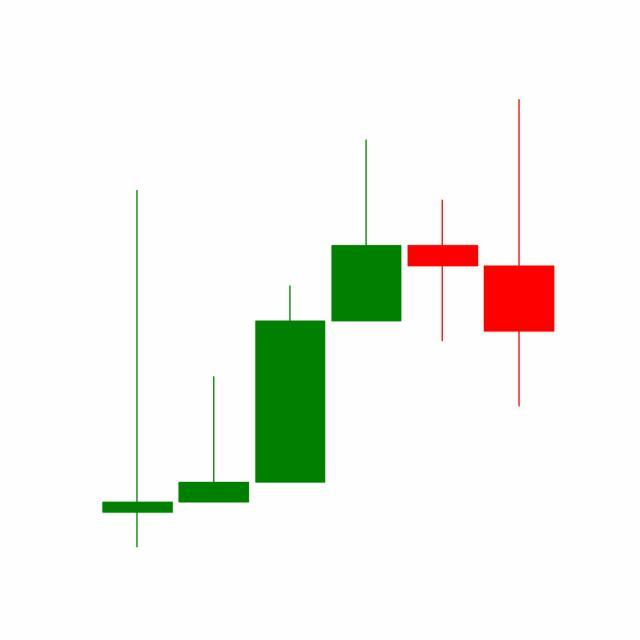Spinning Top: (404, 198, 482, 344)
